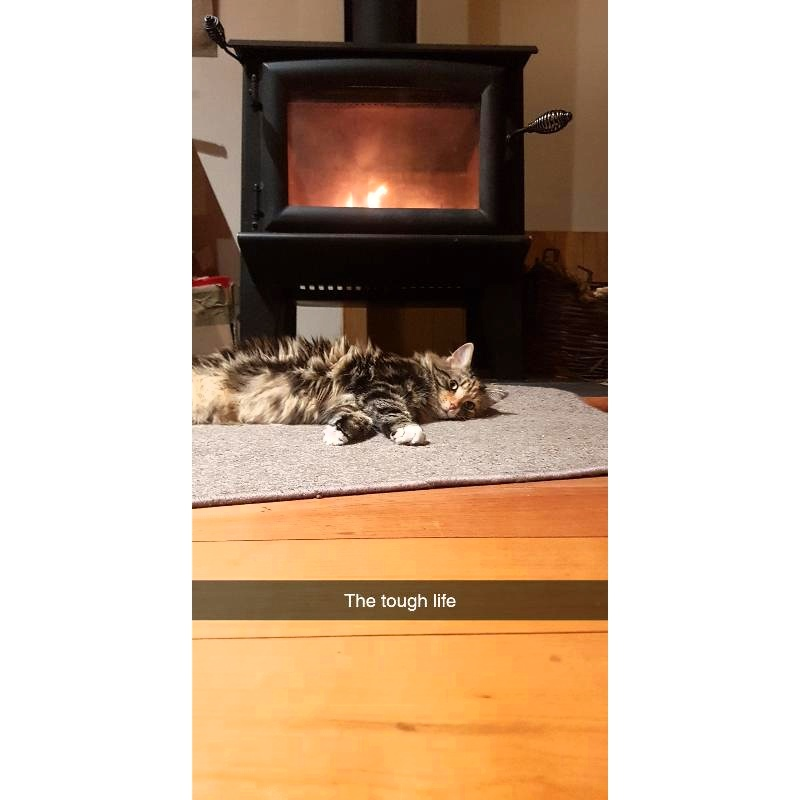red: (192, 340, 508, 446)
